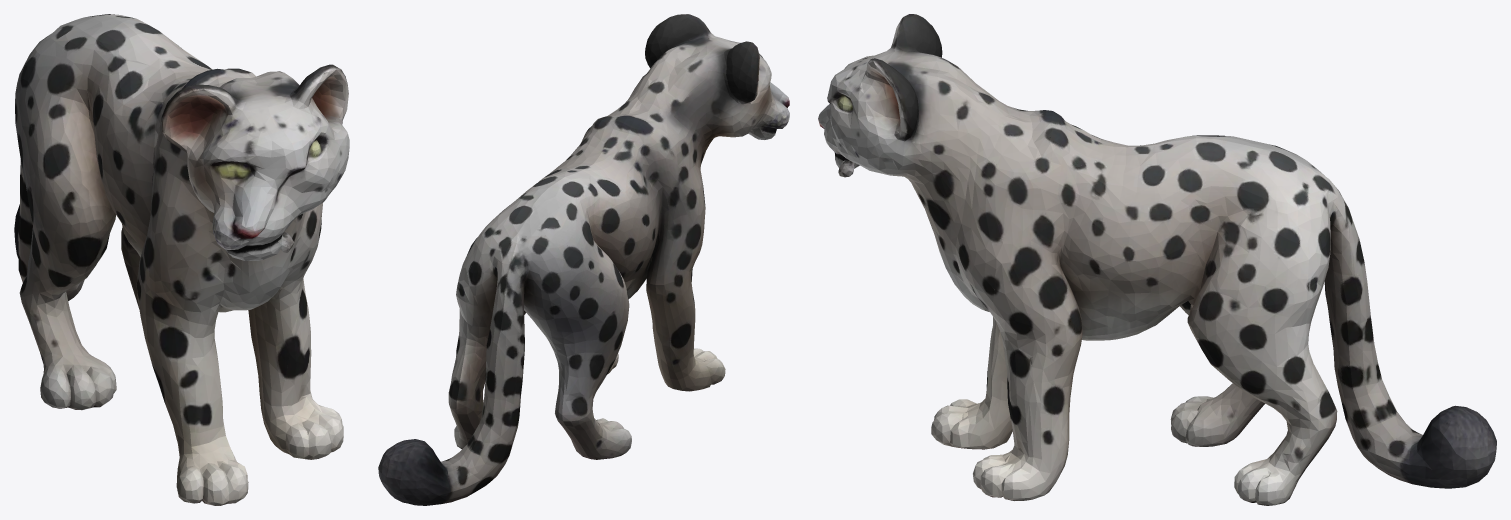
The model's file is snow_leopard.glb.
3 renders of one model, left to right at view 1: azimuth 30°, elevation 25°; view 2: azimuth 150°, elevation 25°; view 3: azimuth 270°, elevation 25°, orthographic. The views are drawn at different scales.
Parts seen in each view (by area): view 1: geometry_0; view 2: geometry_0; view 3: geometry_0.
Part boxes in pixels (x1,y1,x2,y2): geometry_0: (14, 14, 349, 505); geometry_0: (378, 14, 789, 505); geometry_0: (818, 14, 1496, 505).
Bounding box in the file's own units: 0.3506 × 0.6637 × 1.
Materials: 1 (1 with a texture image).
